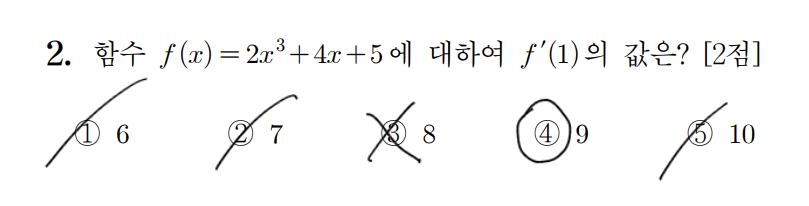1: (515, 95, 574, 169)
paper: (72, 118, 102, 150), (226, 116, 256, 148), (379, 118, 409, 150), (532, 116, 562, 148), (685, 118, 715, 150)
